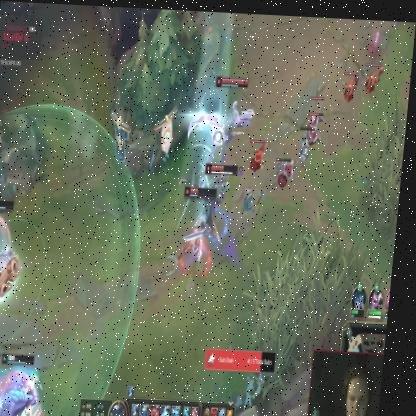streamer: (324, 356, 390, 416)
